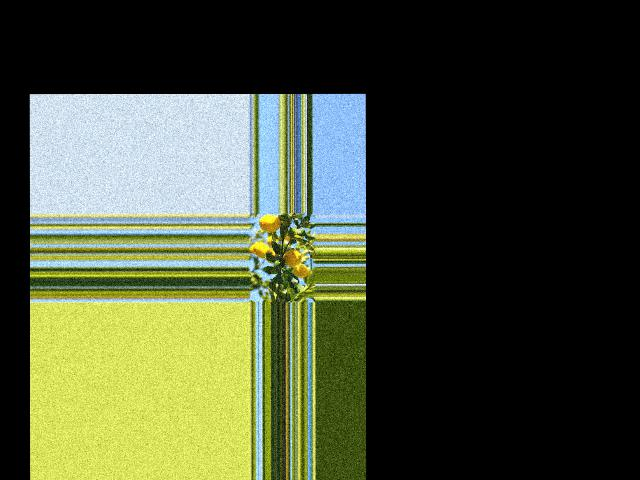lemon: (256, 213, 283, 234)
